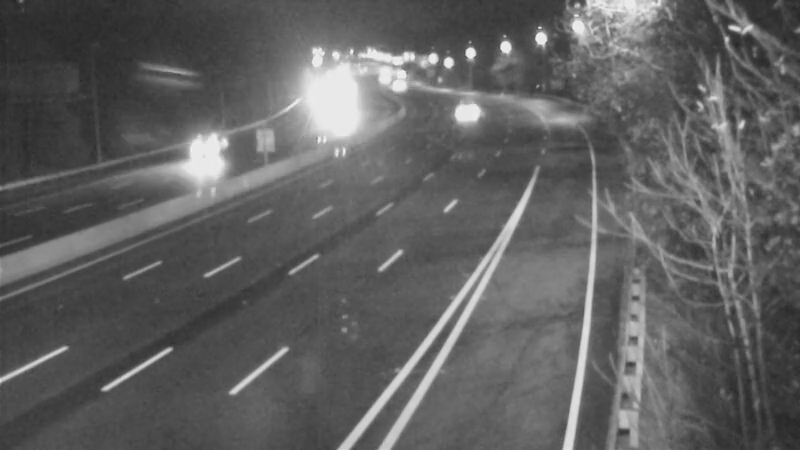vehicle: (370, 60, 420, 110), (437, 88, 487, 138), (181, 123, 231, 173)
